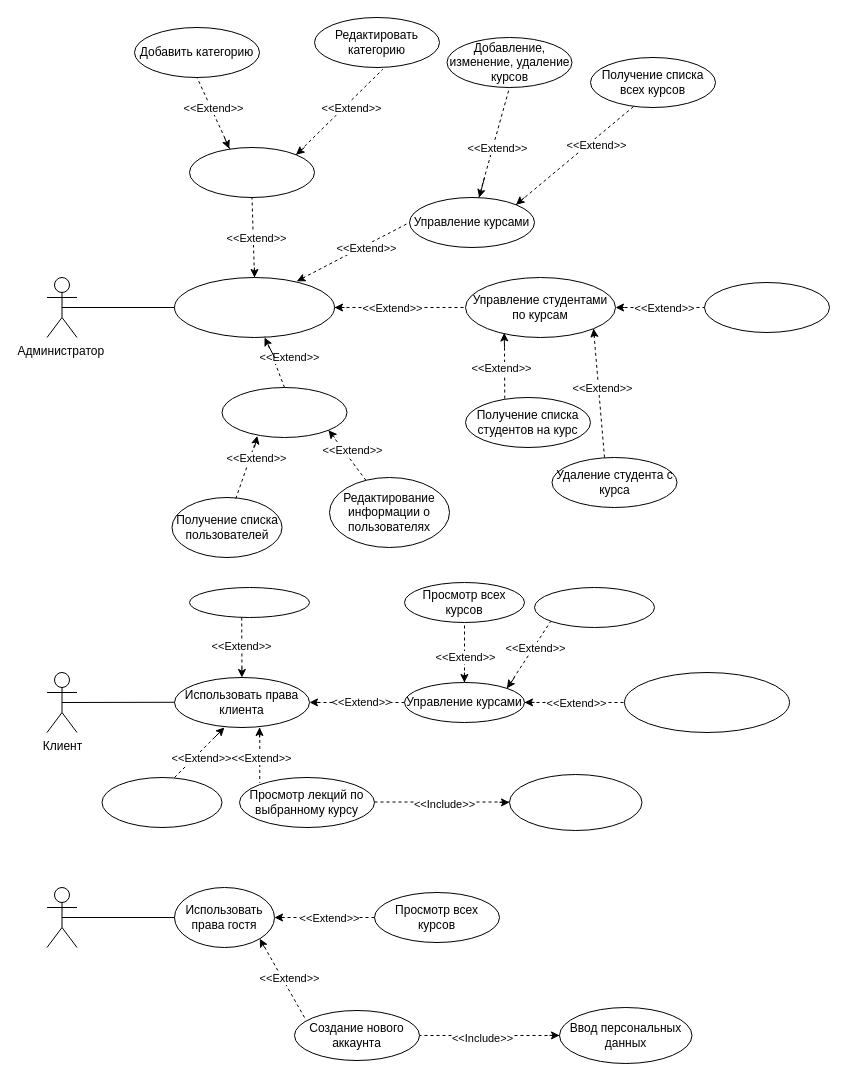
This 847x1081 diagram has some shape labels left out. The shapes that lost their labels are listed below. From the top down, each one's centre as x and y in pixels, then its label:
[251,172]: Управление категориями
[254,307]: Использовать права администратора
[767,307]: Запись студента на курс
[284,412]: Управление пользователями
[249,602]: Выход из системы
[594,607]: Запись на курс
[707,702]: Просмотр курсов, на которые записан клиент
[161,802]: Редактирование профиля
[575,802]: Выбрать доступный курс
[61,917]: Гость
